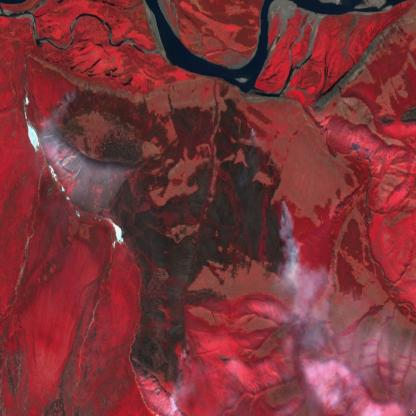fire: (276, 200, 303, 282), (171, 338, 193, 400), (52, 78, 79, 117)
